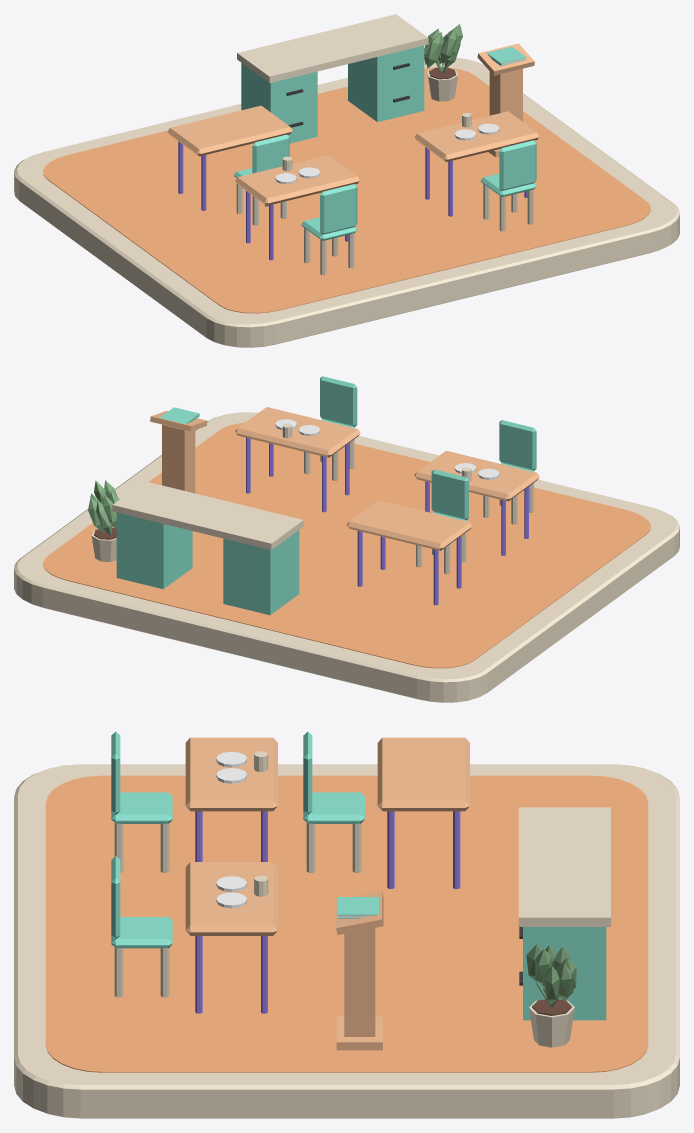
3 renders of one model, top to bottom at view 1: azimuth 30°, elevation 25°; view 2: azimuth 150°, elevation 25°; view 3: azimuth 270°, elevation 25°, orthographic. The views are drawn at different scales.
Visible parts, largest first — view 1: COM-02 Floor Surface, COM-01 Rounded Base Direct, Worktop, Storage module.001, Storage module, Rounded table top.002, Rounded table top, Rounded table top.001, Pot, Backrest, Backrest.001, Body (+4 smaller); view 2: COM-02 Floor Surface, COM-01 Rounded Base Direct, Worktop, Storage module, Storage module.001, Rounded table top.002, Rounded table top.001, Rounded table top, Body, Pot, Backrest, Backrest.001 (+1 smaller); view 3: COM-02 Floor Surface, COM-01 Rounded Base Direct, Worktop, Rounded table top.002, Rounded table top, Rounded table top.001, Storage module.001, Pot, Body, Seat.002, Seat, Seat.001 (+9 smaller).
Boxes of the visible parts, x1=… form: COM-02 Floor Surface: x1=43, y1=67, x2=650, y2=313; COM-01 Rounded Base Direct: x1=14, y1=57, x2=679, y2=347; Worktop: x1=237, y1=14, x2=428, y2=83; Storage module.001: x1=348, y1=45, x2=424, y2=122; Storage module: x1=241, y1=63, x2=317, y2=143; Rounded table top.002: x1=167, y1=105, x2=292, y2=156; Rounded table top: x1=235, y1=155, x2=360, y2=205; Rounded table top.001: x1=414, y1=111, x2=539, y2=161; Pot: x1=424, y1=24, x2=462, y2=101; Backrest: x1=320, y1=184, x2=357, y2=234; Backrest.001: x1=499, y1=140, x2=536, y2=190; Body: x1=489, y1=68, x2=522, y2=121; COM-02 Floor Surface: x1=43, y1=422, x2=650, y2=668; COM-01 Rounded Base Direct: x1=14, y1=412, x2=679, y2=702; Worktop: x1=112, y1=481, x2=303, y2=550; Storage module: x1=223, y1=530, x2=299, y2=615; Storage module.001: x1=116, y1=512, x2=192, y2=589; Rounded table top.002: x1=347, y1=500, x2=472, y2=550; Rounded table top.001: x1=235, y1=407, x2=360, y2=457; Rounded table top: x1=414, y1=450, x2=539, y2=501; Body: x1=162, y1=424, x2=195, y2=493; Pot: x1=88, y1=480, x2=119, y2=561; Backrest: x1=499, y1=420, x2=536, y2=470; Backrest.001: x1=320, y1=376, x2=357, y2=426; COM-02 Floor Surface: x1=45, y1=775, x2=648, y2=1072; COM-01 Rounded Base Direct: x1=14, y1=764, x2=679, y2=1118; Worktop: x1=518, y1=807, x2=610, y2=926; Rounded table top.002: x1=377, y1=737, x2=469, y2=811; Rounded table top: x1=185, y1=737, x2=277, y2=811; Rounded table top.001: x1=185, y1=862, x2=277, y2=935; Storage module.001: x1=523, y1=927, x2=606, y2=1020; Pot: x1=526, y1=944, x2=576, y2=1047; Body: x1=344, y1=928, x2=375, y2=1036; Seat.002: x1=303, y1=792, x2=364, y2=823; Seat: x1=111, y1=792, x2=172, y2=823; Seat.001: x1=111, y1=917, x2=172, y2=948.
Bounding box in the file's own units: 6 × 1.43 × 5.2.
1 material, 1 textured.
